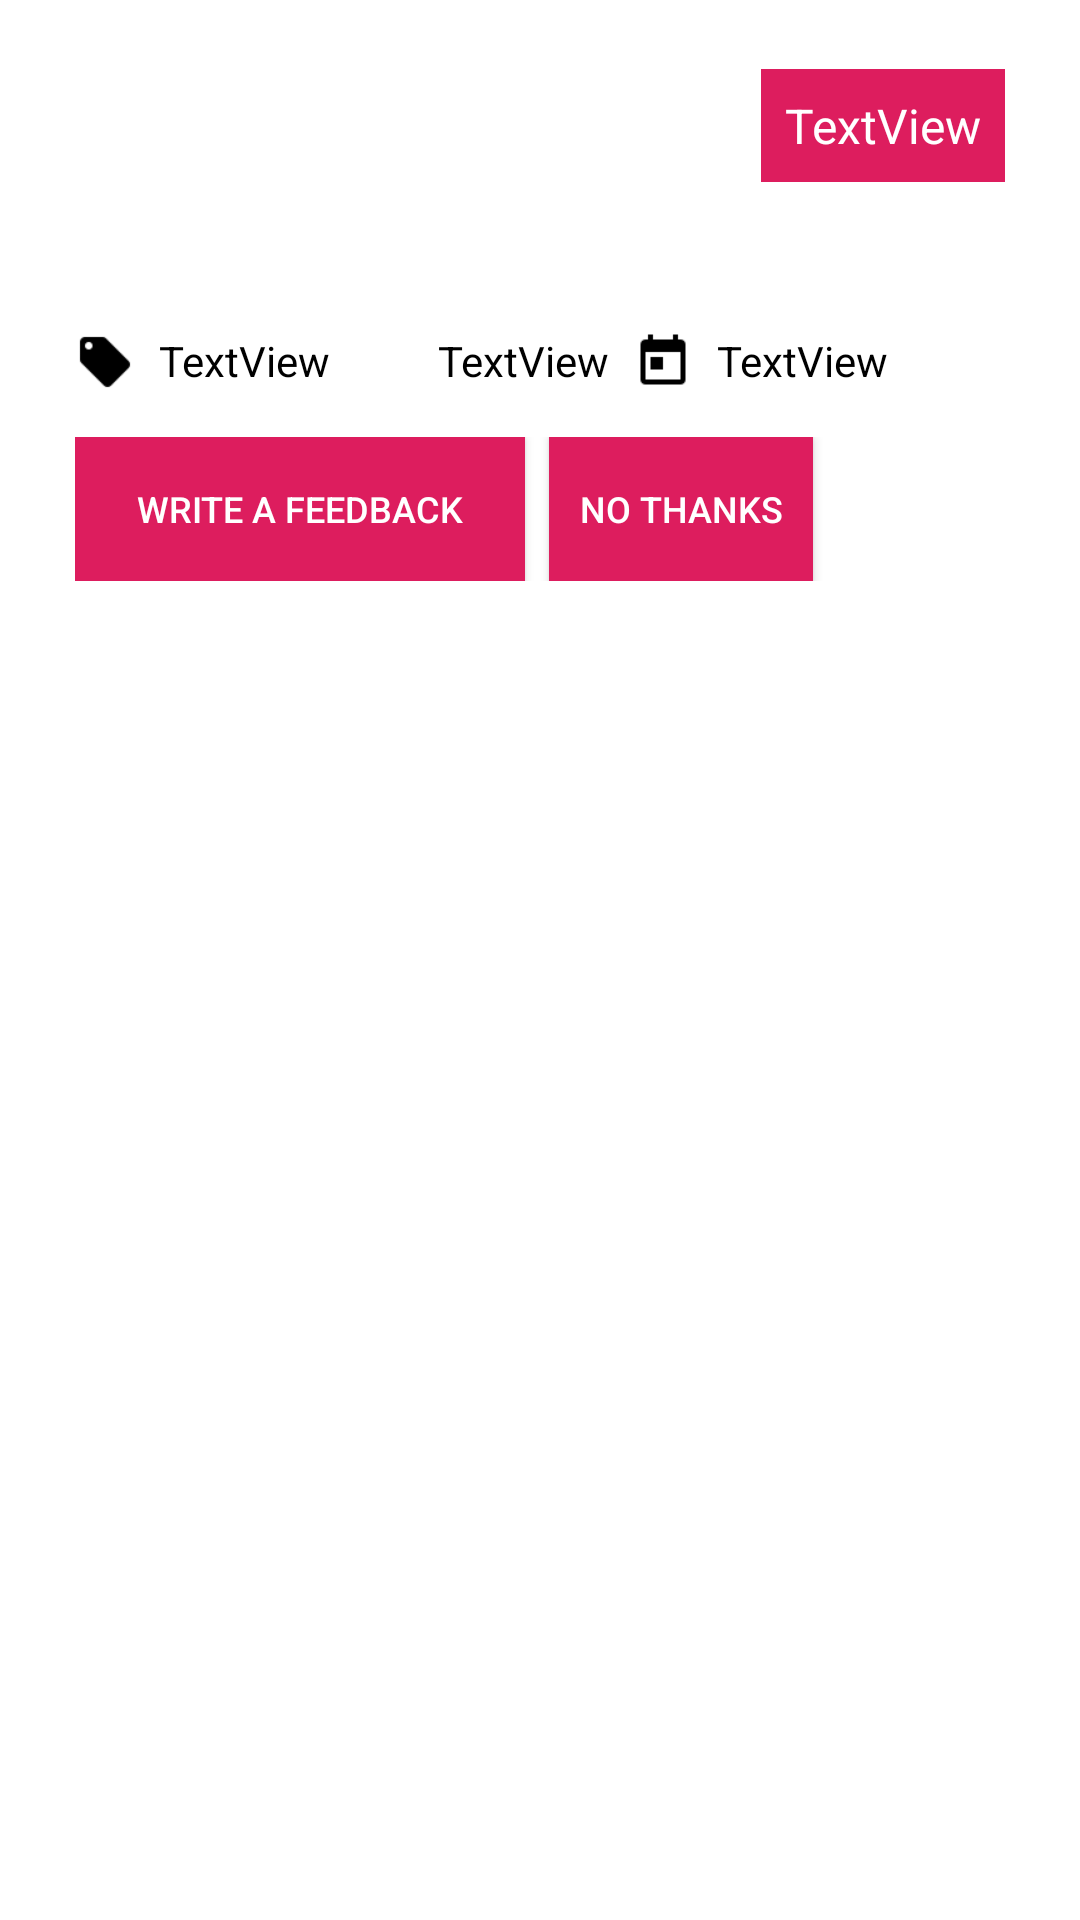

Named icons in this screenshot (1080 × 1920) and their bounding boxes, {"left": x1, "top": y1, "right": x2, "bottom": y2}:
local offer: {"left": 79, "top": 336, "right": 130, "bottom": 387}
today: {"left": 640, "top": 334, "right": 686, "bottom": 385}
